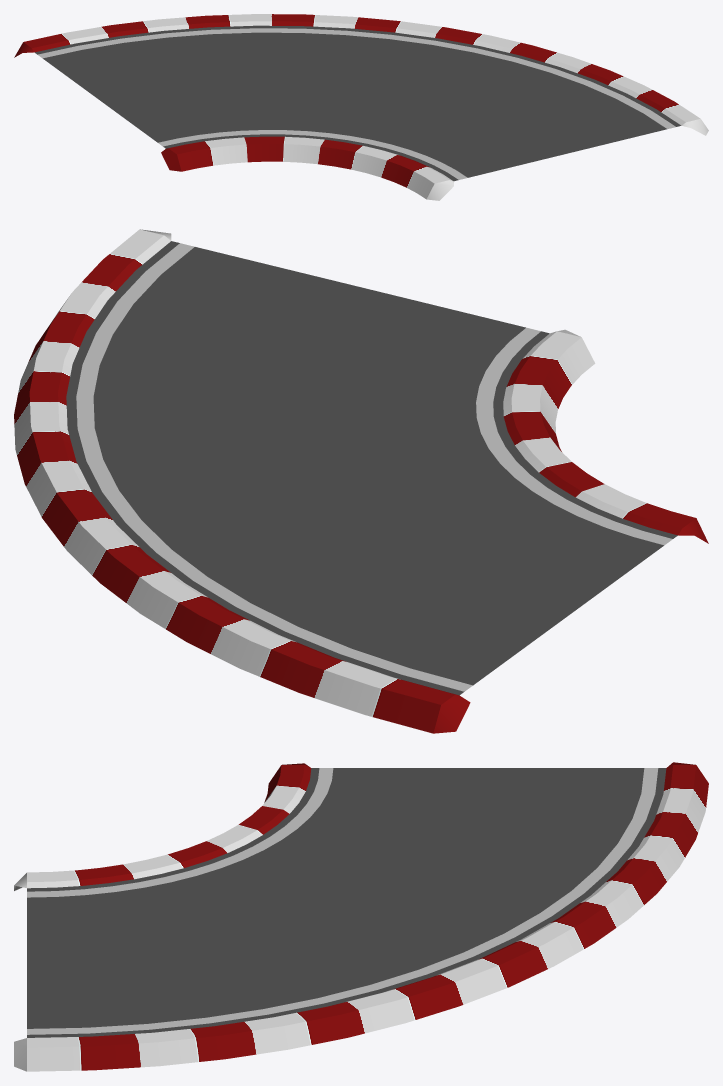
The model's file is Track_Right_Mid.FBX.
The picture shows the model from 3 angles, top to bottom: view 1: azimuth 30°, elevation 25°; view 2: azimuth 150°, elevation 25°; view 3: azimuth 270°, elevation 25°; orthographic projection. The views are drawn at different scales.
Visible parts, largest first — view 1: Track_Right_Mid, Track_Right_Mid_Apex_Left, Track_Right_Mid_Apex_Right; view 2: Track_Right_Mid, Track_Right_Mid_Apex_Left, Track_Right_Mid_Apex_Right; view 3: Track_Right_Mid, Track_Right_Mid_Apex_Left, Track_Right_Mid_Apex_Right.
Part boxes in pixels (x1=…): Track_Right_Mid: x1=34, y1=25, x2=681, y2=181; Track_Right_Mid_Apex_Left: x1=14, y1=14, x2=708, y2=135; Track_Right_Mid_Apex_Right: x1=161, y1=136, x2=453, y2=200; Track_Right_Mid: x1=66, y1=241, x2=677, y2=695; Track_Right_Mid_Apex_Left: x1=14, y1=229, x2=470, y2=733; Track_Right_Mid_Apex_Right: x1=503, y1=329, x2=708, y2=543; Track_Right_Mid: x1=27, y1=768, x2=666, y2=1037; Track_Right_Mid_Apex_Left: x1=14, y1=762, x2=708, y2=1071; Track_Right_Mid_Apex_Right: x1=14, y1=763, x2=311, y2=890.
Size of the model in its own units: 1629 by 48.17 by 1626.
1 material, 1 textured.
